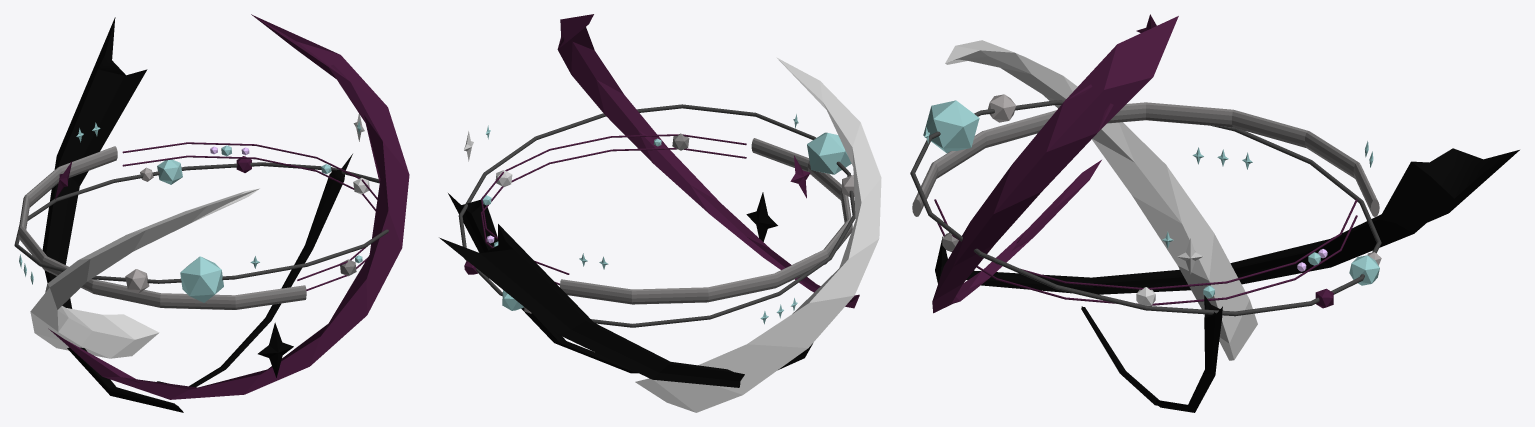
The model's file is water block band_st2.fbx.
3 renders of one model, left to right at view 1: azimuth 30°, elevation 25°; view 2: azimuth 150°, elevation 25°; view 3: azimuth 270°, elevation 25°, orthographic. The views are drawn at different scales.
Visible parts, largest first — view 1: Circle_001; view 2: Circle_001; view 3: Circle_001.
Boxes of the visible parts, x1=… form: Circle_001: x1=14, y1=14, x2=409, y2=412; Circle_001: x1=439, y1=14, x2=881, y2=412; Circle_001: x1=910, y1=14, x2=1519, y2=412.
Size of the model in its own units: 264 by 236 by 318.
